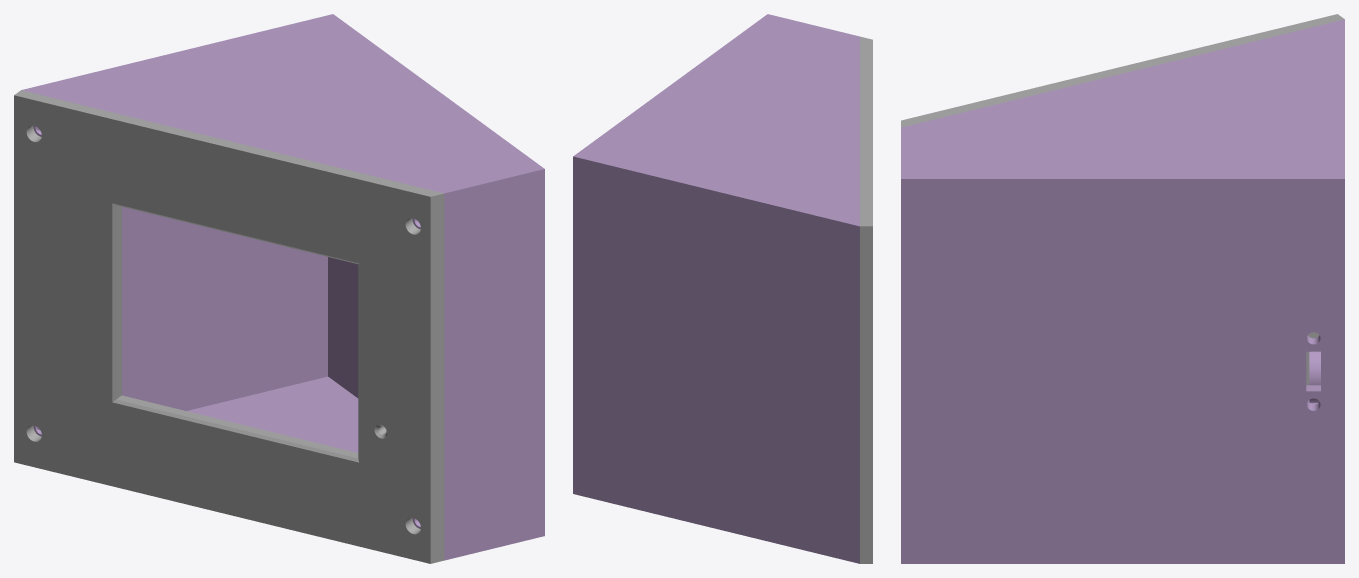
The model's file is base_plate.glb.
3 views of the same model, side by side, from view 1: azimuth 30°, elevation 25°; view 2: azimuth 150°, elevation 25°; view 3: azimuth 270°, elevation 25° (orthographic). The views are drawn at different scales.
Visible parts, largest first — view 1: base, front_panel; view 2: base, front_panel; view 3: base, front_panel.
Boxes of the visible parts, x1=… form: base: x1=21, y1=14, x2=544, y2=560; front_panel: x1=14, y1=90, x2=444, y2=563; base: x1=573, y1=14, x2=859, y2=563; front_panel: x1=860, y1=36, x2=872, y2=563; base: x1=901, y1=19, x2=1344, y2=563; front_panel: x1=901, y1=14, x2=1344, y2=385.
Size of the model in its own units: 80 by 87 by 90.93.
